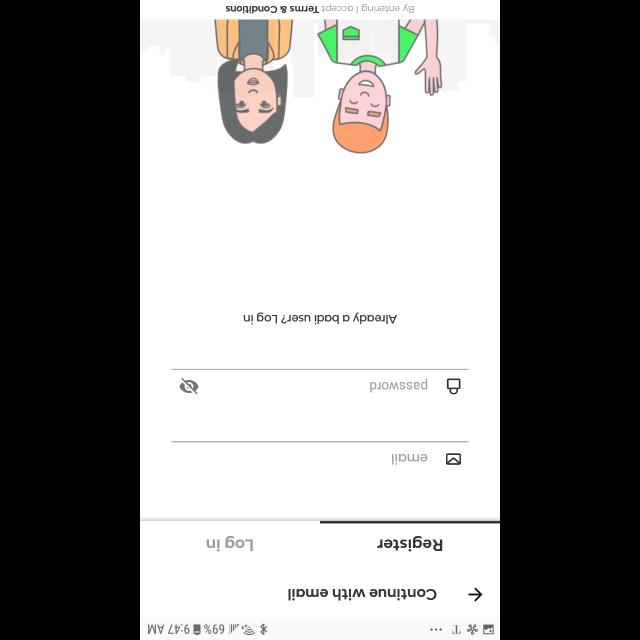icon: (179, 378, 199, 394), (446, 378, 460, 394), (468, 587, 482, 601), (446, 453, 460, 465)
image: (140, 19, 500, 153)
input: (172, 369, 468, 395), (172, 441, 468, 465)
text: (226, 4, 414, 14), (243, 312, 397, 324), (288, 588, 436, 600), (377, 536, 443, 552), (369, 378, 427, 392), (206, 535, 254, 551), (391, 453, 427, 465)
uppertaskbar: (140, 619, 500, 639)
